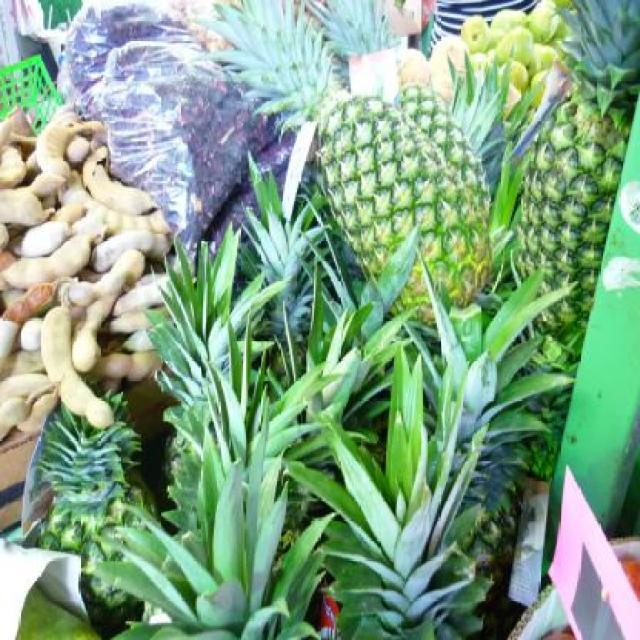Pineapple: (33, 0, 638, 638)
